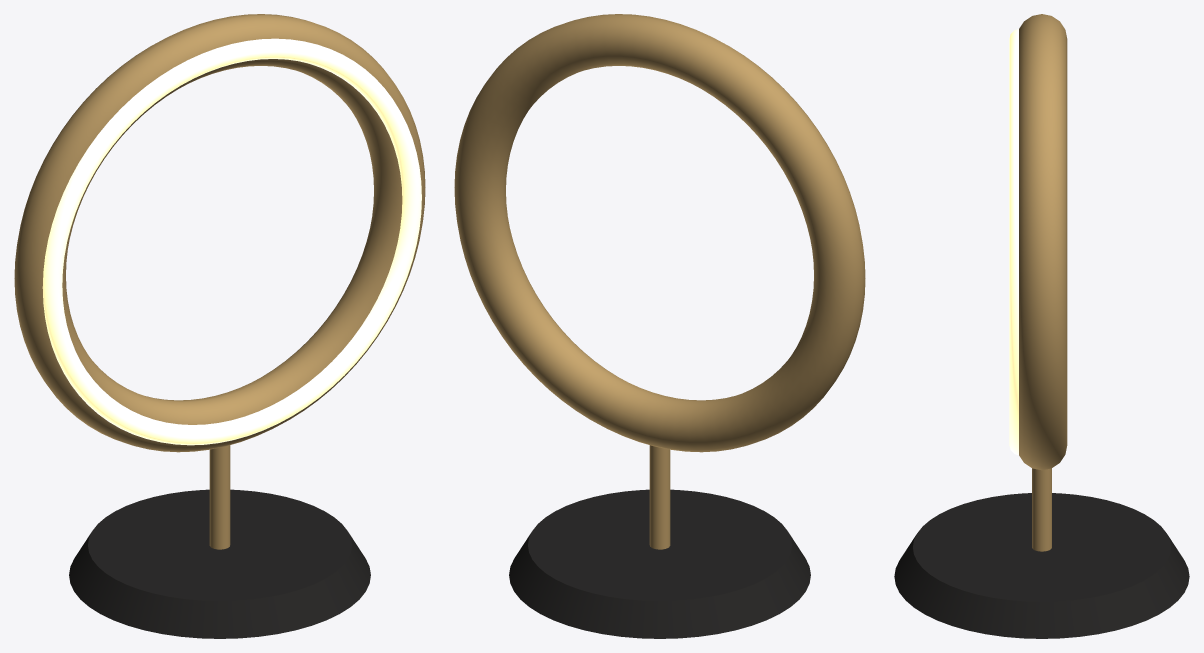
File: tsuki.glb
3 views of the same model, side by side, from view 1: azimuth 30°, elevation 25°; view 2: azimuth 150°, elevation 25°; view 3: azimuth 270°, elevation 25° (orthographic). The views are drawn at different scales.
Size of the model in its own units: 0.99 by 1.3 by 0.64.
